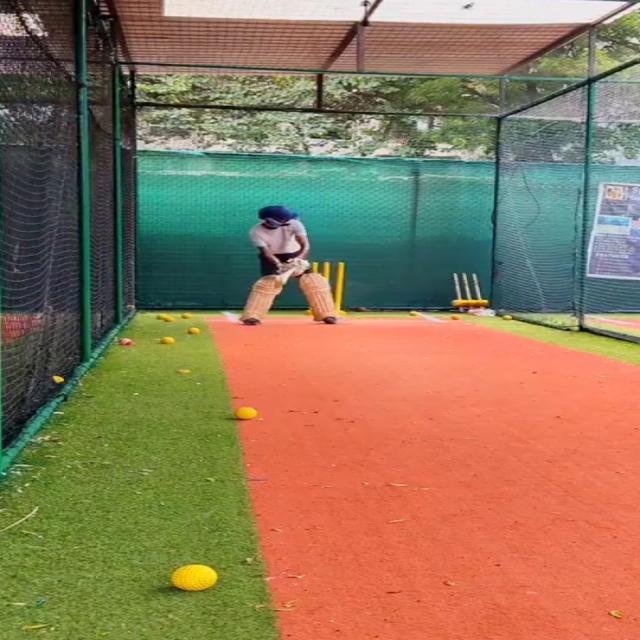ball: (164, 560, 219, 594), (234, 407, 257, 420), (157, 336, 175, 345), (185, 326, 199, 335), (180, 311, 193, 319), (406, 308, 418, 316), (499, 314, 512, 321), (449, 313, 461, 320), (161, 315, 174, 321)
stump: (322, 259, 345, 317)
